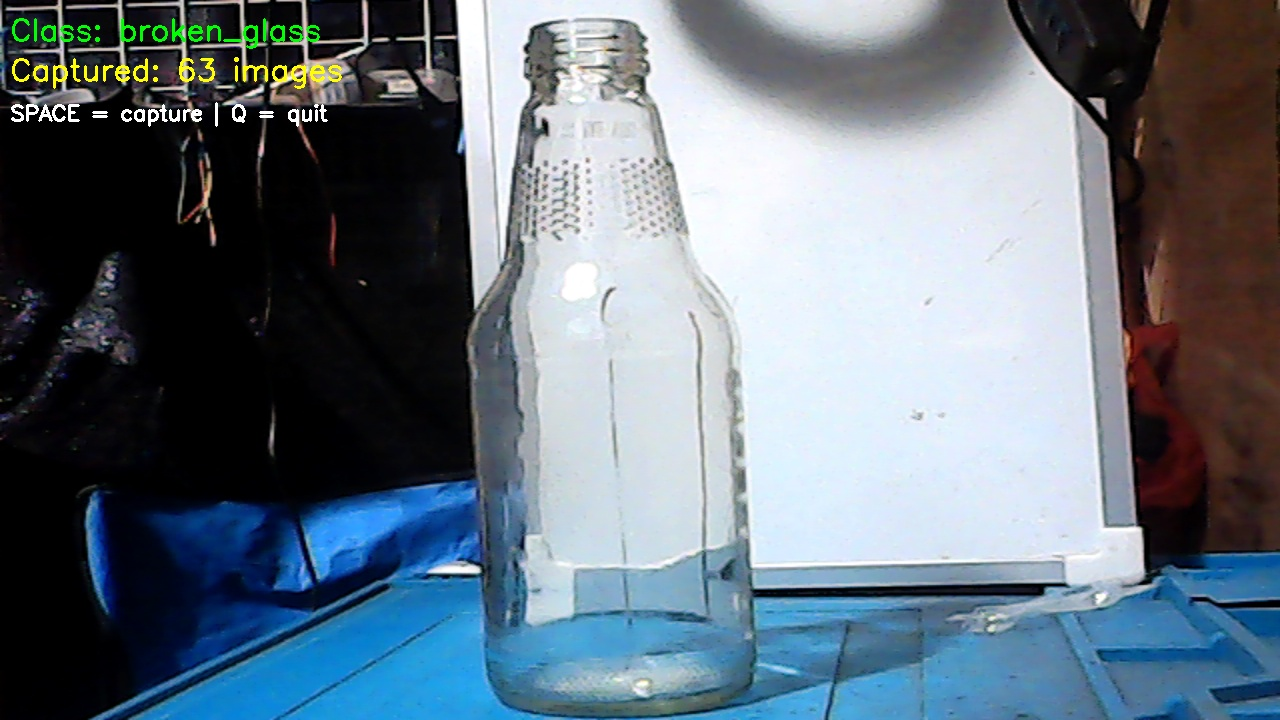broken_glass: (459, 28, 763, 707)
